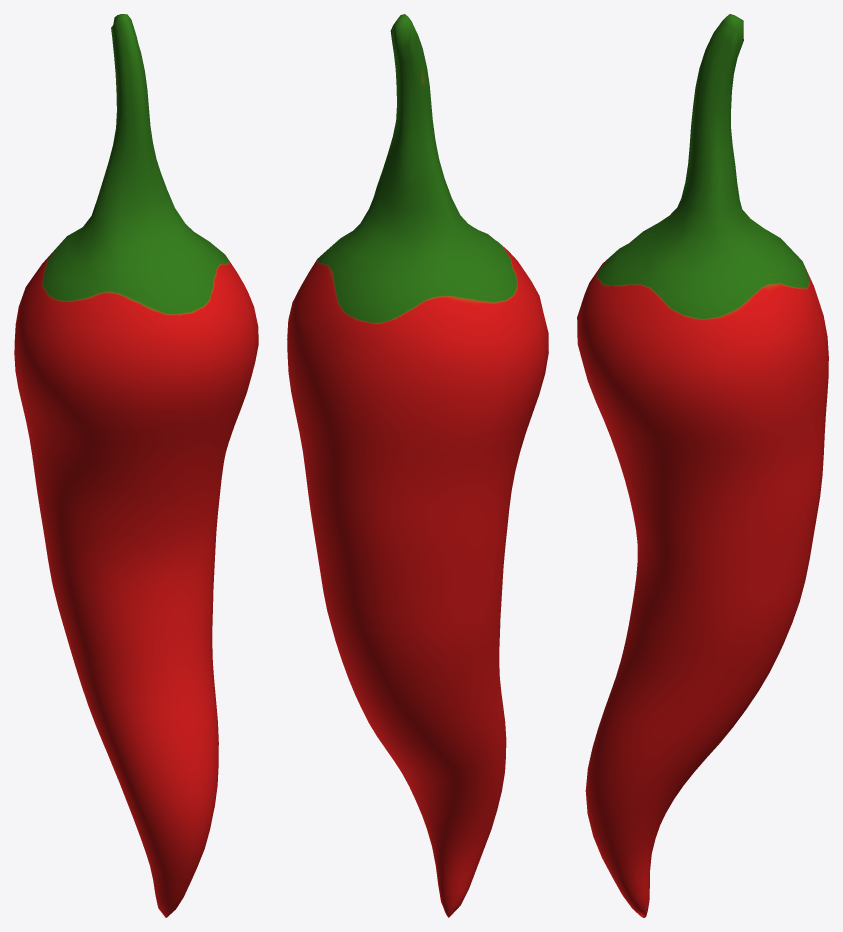
Rendered from cabai.glb.
The picture shows the model from 3 angles, left to right: view 1: azimuth 30°, elevation 25°; view 2: azimuth 150°, elevation 25°; view 3: azimuth 270°, elevation 25°; orthographic projection. The views are drawn at different scales.
Visible parts, largest first — view 1: chilli_pepper_main_0; view 2: chilli_pepper_main_0; view 3: chilli_pepper_main_0.
Part boxes in pixels (bbox=[...]): chilli_pepper_main_0: bbox=[14, 14, 258, 917]; chilli_pepper_main_0: bbox=[287, 14, 548, 917]; chilli_pepper_main_0: bbox=[577, 14, 828, 917].
Bounding box in the file's own units: 0.2426 × 0.9469 × 0.2391.
1 material, 1 textured.
